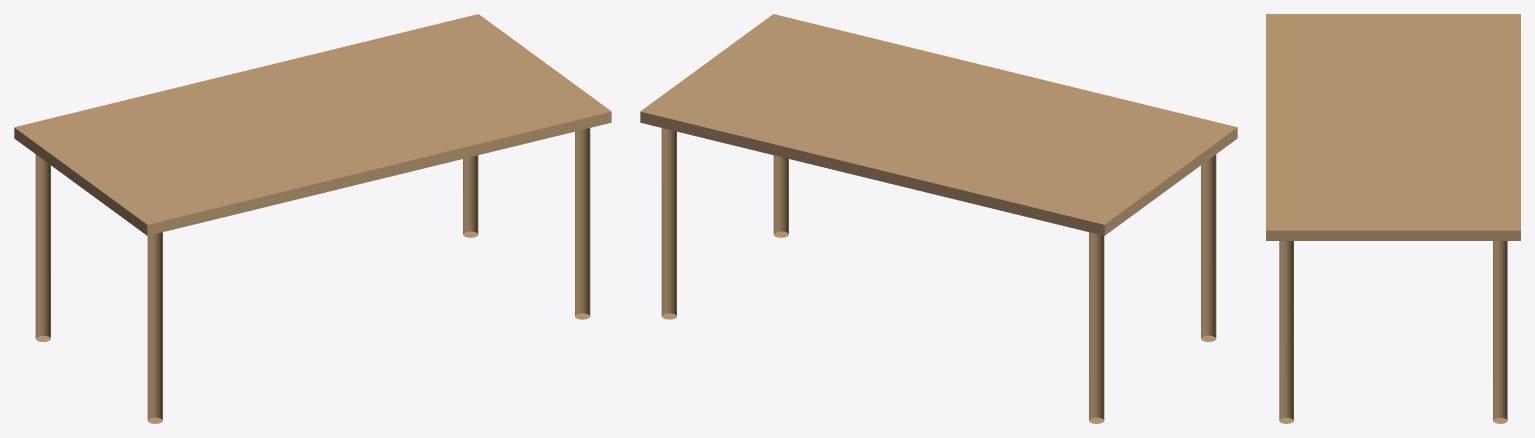
File: dining_table_09.glb
3 renders of one model, left to right at view 1: azimuth 30°, elevation 25°; view 2: azimuth 150°, elevation 25°; view 3: azimuth 270°, elevation 25°, orthographic. The views are drawn at different scales.
Bounding box in the file's own units: 1.75 × 0.75 × 0.87.
